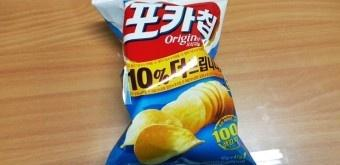snack: (89, 0, 257, 165)
